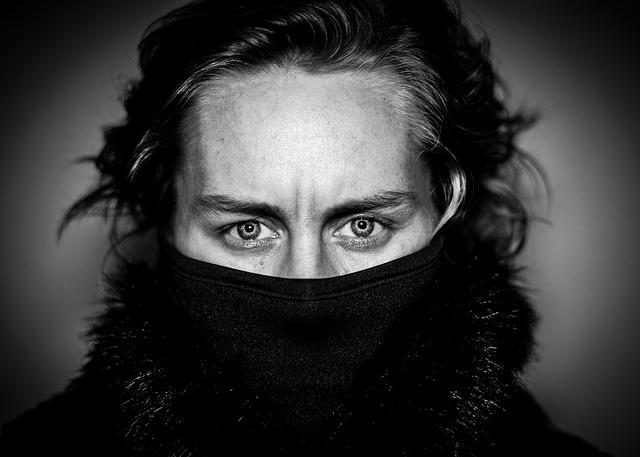OK: (175, 152, 444, 424)
